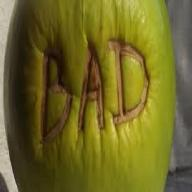apple: (6, 1, 175, 190)
